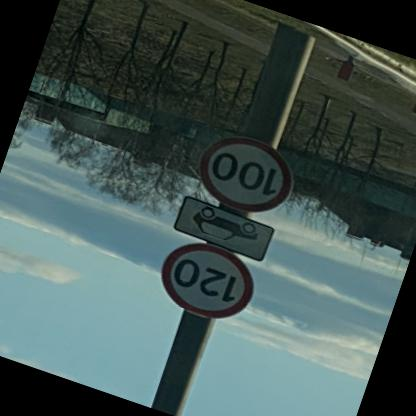speedlimit: (190, 127, 304, 228), (154, 235, 266, 332)
